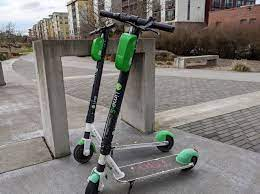kick_body: (109, 142, 156, 148)
kick_handler: (100, 10, 175, 33), (90, 24, 115, 34)
kick_wheel: (73, 141, 94, 162), (180, 150, 198, 169), (157, 131, 174, 151)
